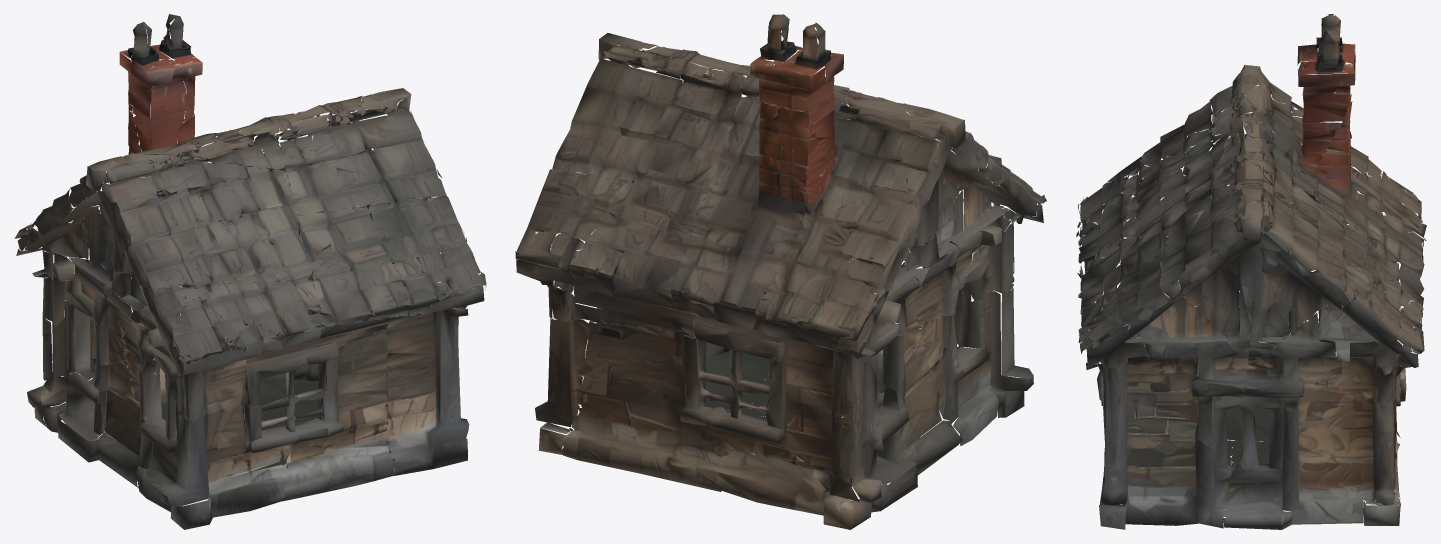
File: smokehouse.glb
The picture shows the model from 3 angles, left to right: view 1: azimuth 30°, elevation 25°; view 2: azimuth 150°, elevation 25°; view 3: azimuth 270°, elevation 25°; orthographic projection. The views are drawn at different scales.
Visible parts, largest first — view 1: tripo_node_a40e2813-fb55-4951-a4bd-a3a5011a716c; view 2: tripo_node_a40e2813-fb55-4951-a4bd-a3a5011a716c; view 3: tripo_node_a40e2813-fb55-4951-a4bd-a3a5011a716c.
Boxes of the visible parts, x1,y1,x2,y2 form: tripo_node_a40e2813-fb55-4951-a4bd-a3a5011a716c: (14, 14, 486, 529); tripo_node_a40e2813-fb55-4951-a4bd-a3a5011a716c: (515, 14, 1046, 529); tripo_node_a40e2813-fb55-4951-a4bd-a3a5011a716c: (1076, 14, 1426, 529).
Size of the model in its own units: 4.59 by 5.64 by 4.34.
1 material, 1 textured.
